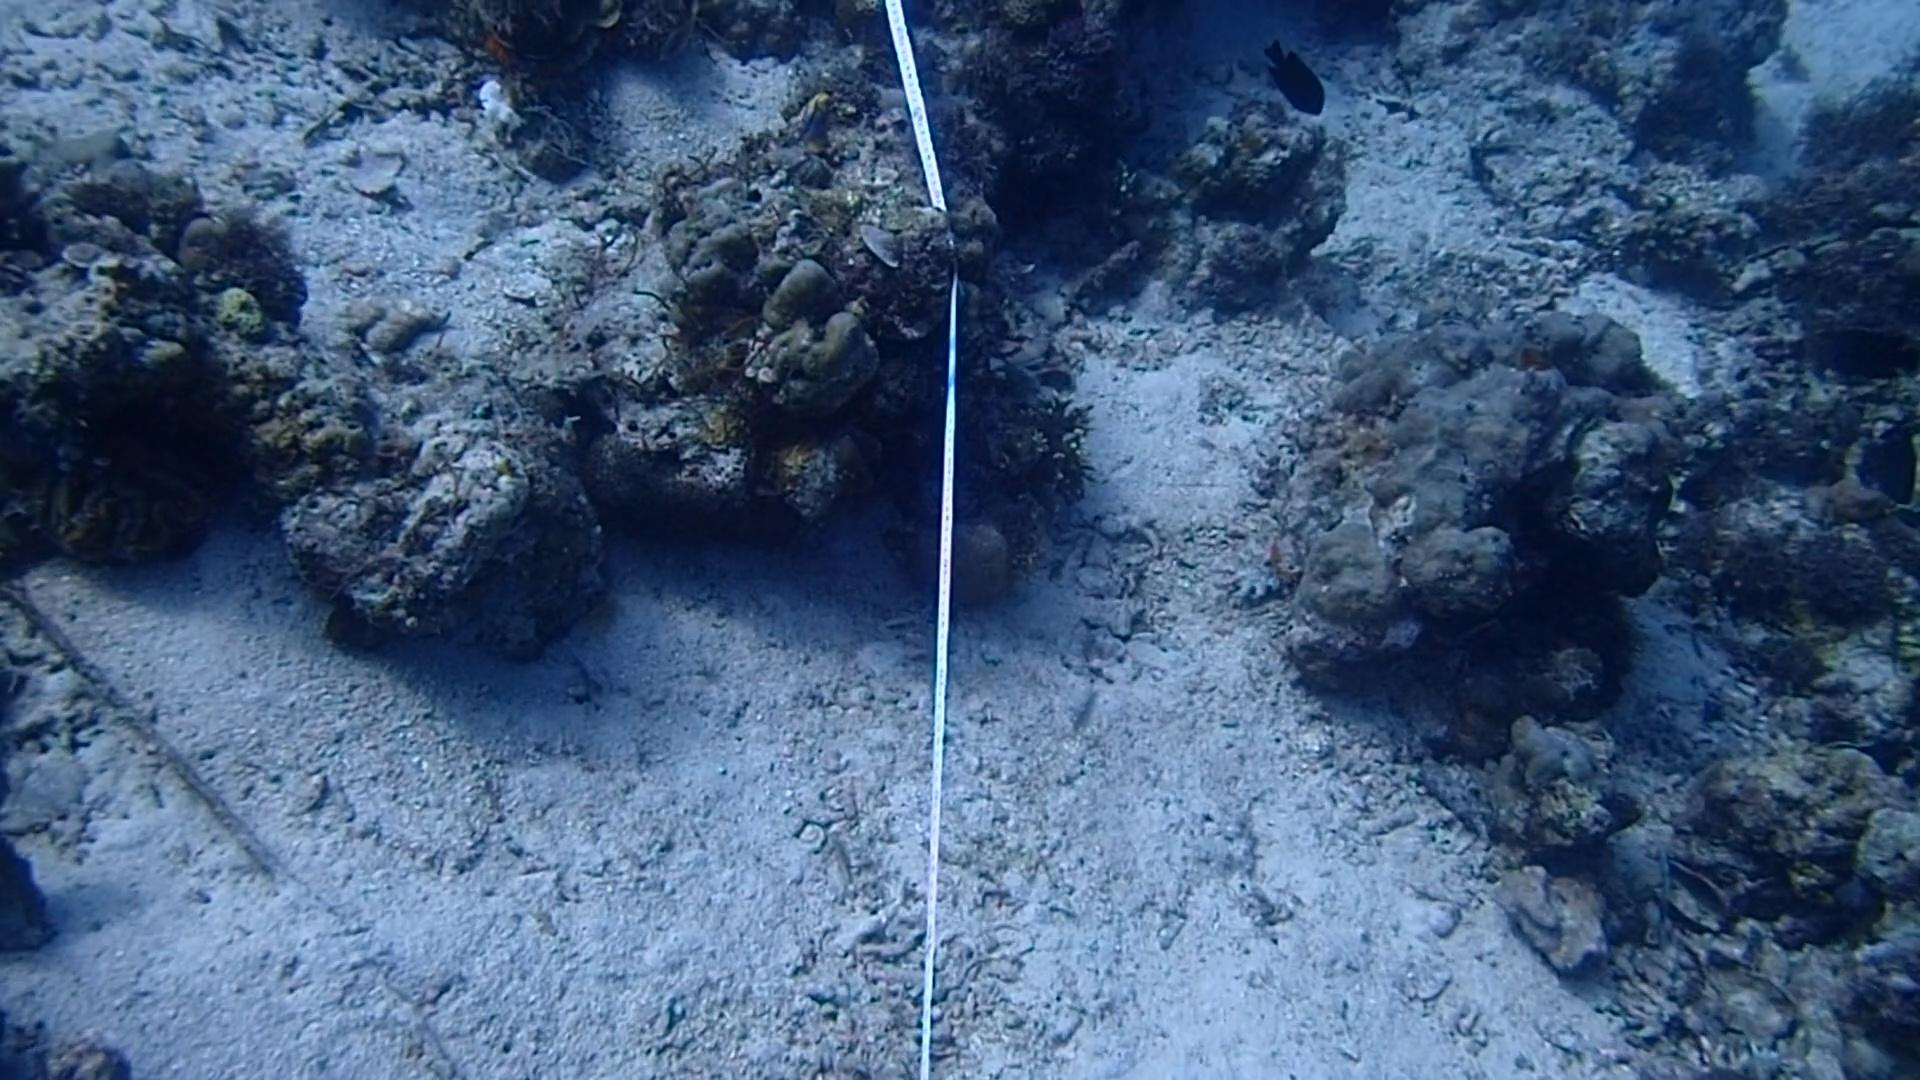Dark Fish: (1801, 315, 1920, 389), (1862, 407, 1920, 506), (1262, 32, 1324, 121)
Light Fish: (651, 4, 715, 69)
